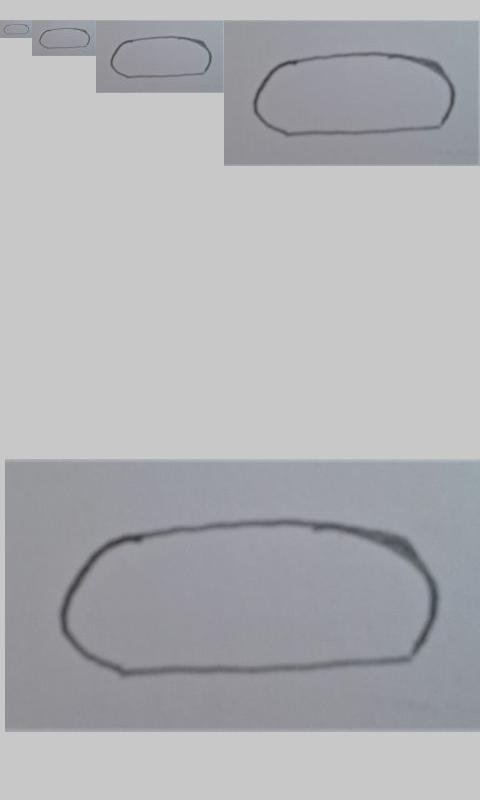chip: (59, 520, 440, 681), (253, 50, 456, 137), (110, 35, 212, 79), (39, 27, 91, 49), (3, 23, 30, 36)
